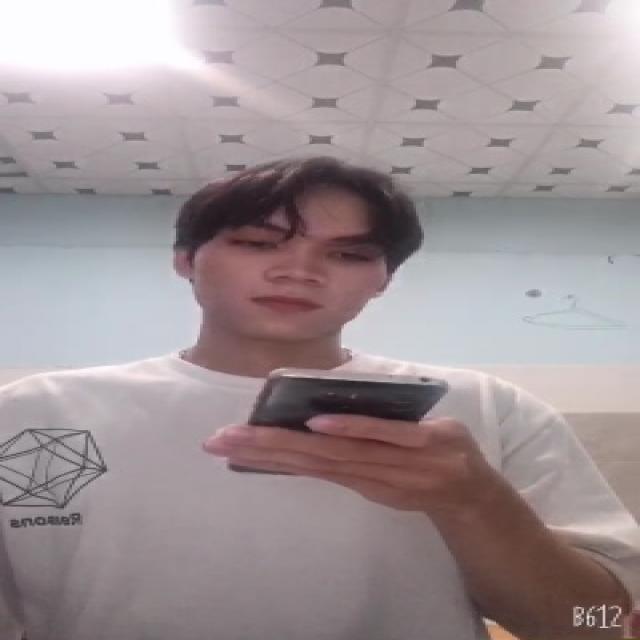Phone: (241, 364, 456, 433)
